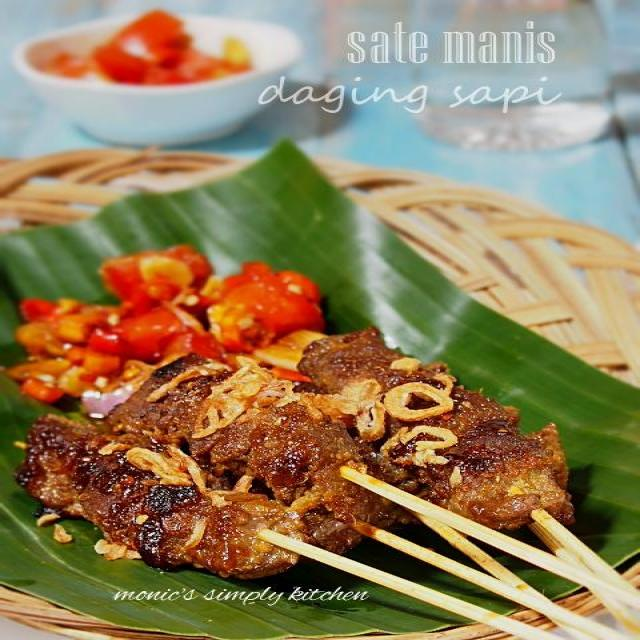Sate: (2, 352, 639, 640)
